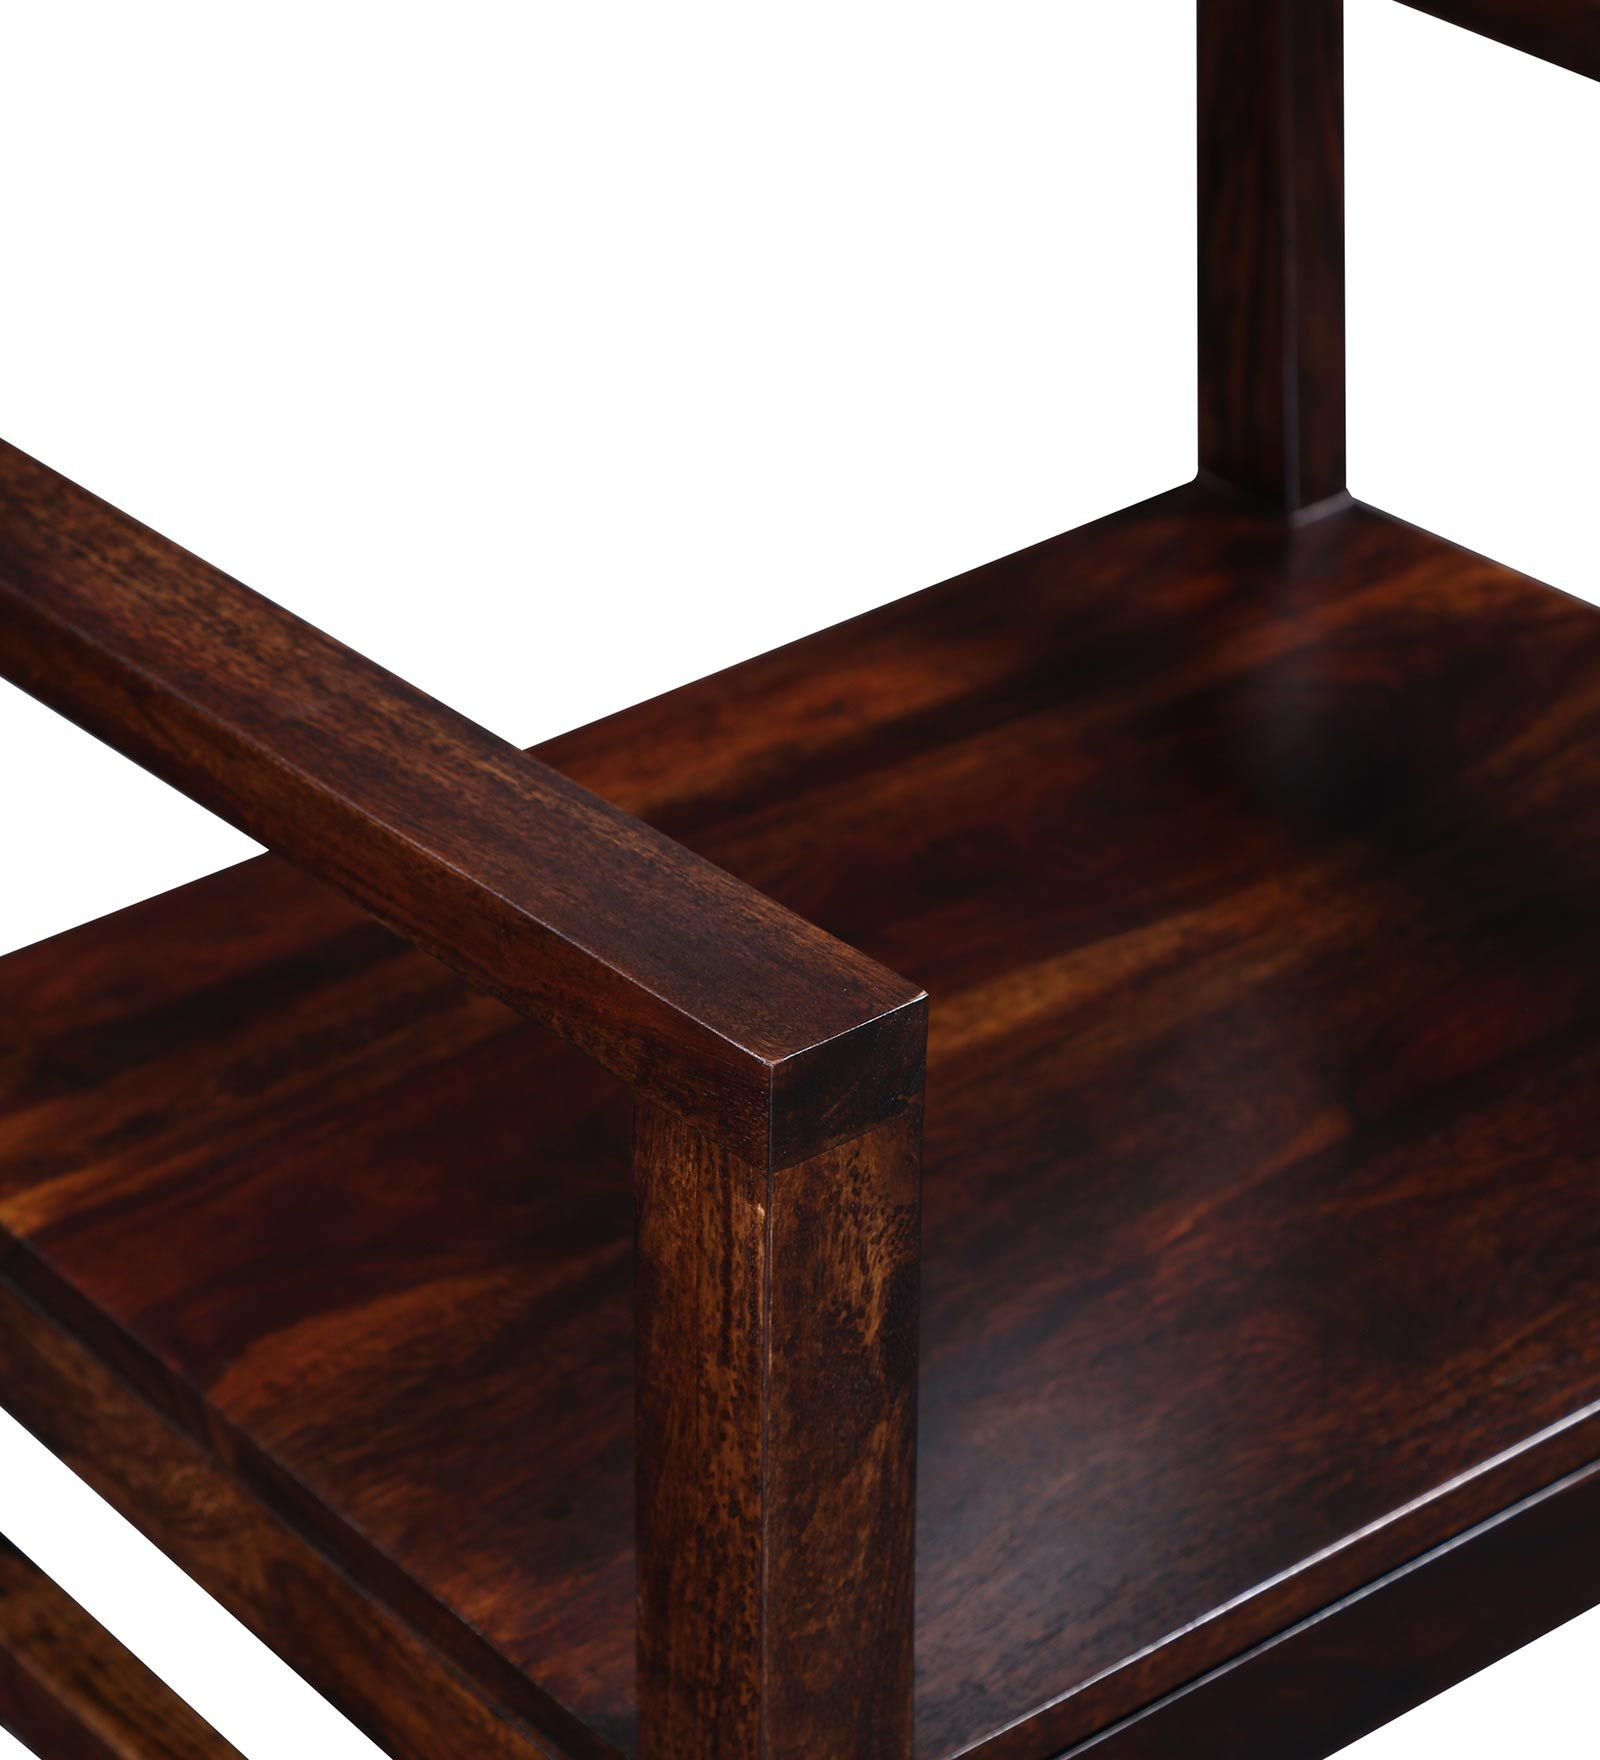Enkel Arm Chair in Provincial Teak Finish by Woodsworth: (2, 2, 1600, 1735)
